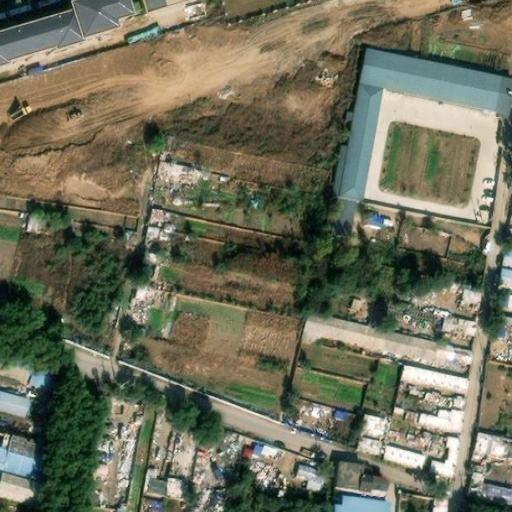building: (361, 46, 512, 115), (302, 315, 470, 368), (329, 82, 385, 200), (72, 0, 133, 38), (400, 363, 471, 395), (337, 462, 389, 494), (353, 413, 388, 460), (427, 433, 463, 478), (419, 403, 468, 436), (469, 473, 512, 507), (471, 430, 512, 461), (327, 195, 353, 237), (157, 161, 200, 185), (292, 464, 327, 493), (379, 446, 423, 469), (145, 211, 165, 258), (335, 494, 387, 512), (244, 435, 280, 461), (28, 364, 57, 391), (0, 391, 28, 418), (440, 315, 474, 336), (162, 476, 190, 500), (83, 482, 107, 509), (24, 207, 47, 231), (331, 404, 354, 425), (462, 287, 483, 309), (0, 373, 23, 392), (144, 477, 164, 497), (497, 317, 512, 340), (497, 266, 512, 287), (360, 212, 381, 227), (432, 497, 449, 512), (499, 291, 512, 308), (147, 501, 163, 512), (225, 509, 247, 512)
